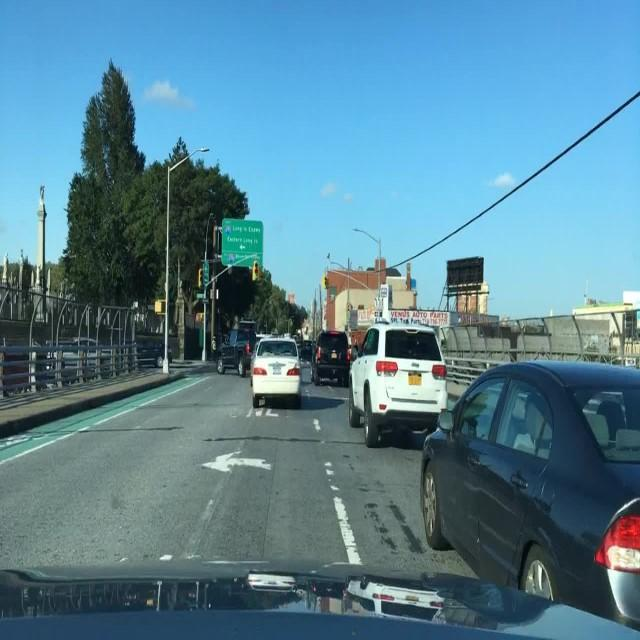normal: (412, 345, 640, 639), (332, 304, 456, 462), (197, 322, 315, 420)
